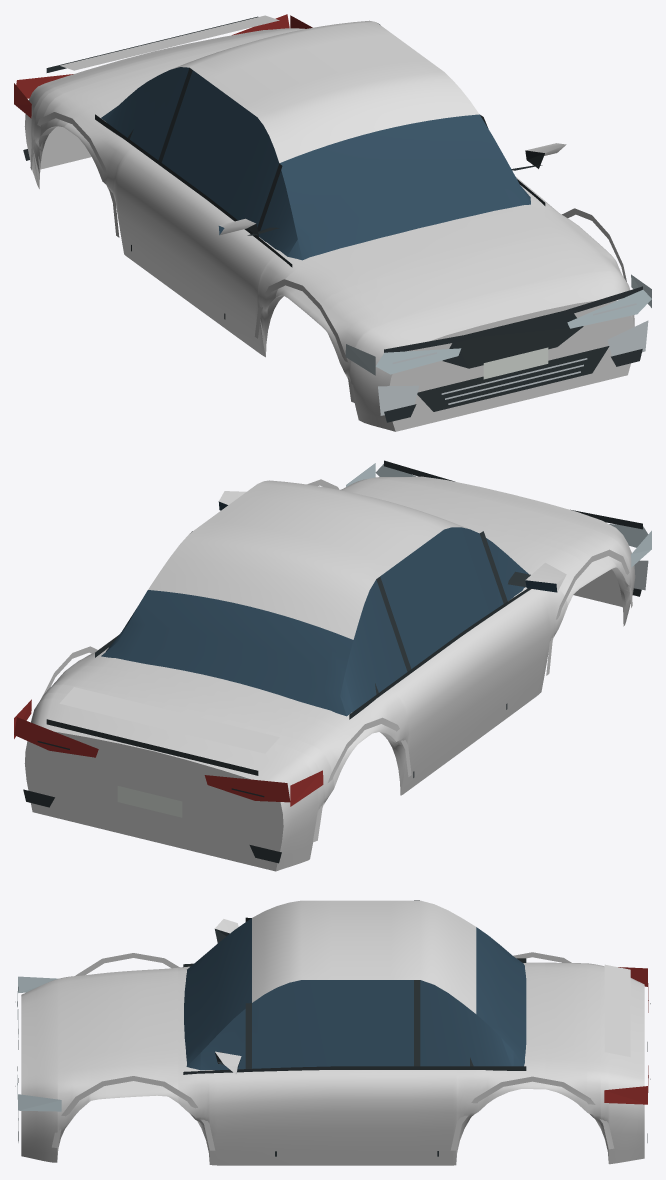
The model's file is veh_city-lod0.glb.
The picture shows the model from 3 angles, top to bottom: view 1: azimuth 30°, elevation 25°; view 2: azimuth 150°, elevation 25°; view 3: azimuth 270°, elevation 25°; orthographic projection. The views are drawn at different scales.
Parts seen in each view (by area): view 1: paint, glass, trim, head, chrome, tail, plate; view 2: paint, glass, trim, tail, head, plate; view 3: paint, glass, trim, head, tail.
Boxes of the visible parts, left/top/right/bottom form: paint: left=24, top=15, right=634, bottom=431; glass: left=101, top=67, right=530, bottom=260; trim: left=23, top=16, right=642, bottom=422; head: left=345, top=274, right=651, bottom=375; chrome: left=378, top=303, right=648, bottom=415; tail: left=14, top=14, right=312, bottom=118; plate: left=483, top=347, right=548, bottom=379; paint: left=24, top=476, right=635, bottom=871; glass: left=101, top=501, right=557, bottom=716; trim: left=23, top=460, right=642, bottom=863; tail: left=14, top=699, right=323, bottom=806; head: left=346, top=463, right=651, bottom=567; plate: left=117, top=786, right=182, bottom=817; paint: left=21, top=900, right=644, bottom=1165; glass: left=184, top=918, right=526, bottom=1071; trim: left=17, top=900, right=650, bottom=1156; head: left=17, top=976, right=61, bottom=1111; tail: left=604, top=967, right=648, bottom=1104.
Bounding box in the file's own units: 1.54 × 0.855 × 2.84.
